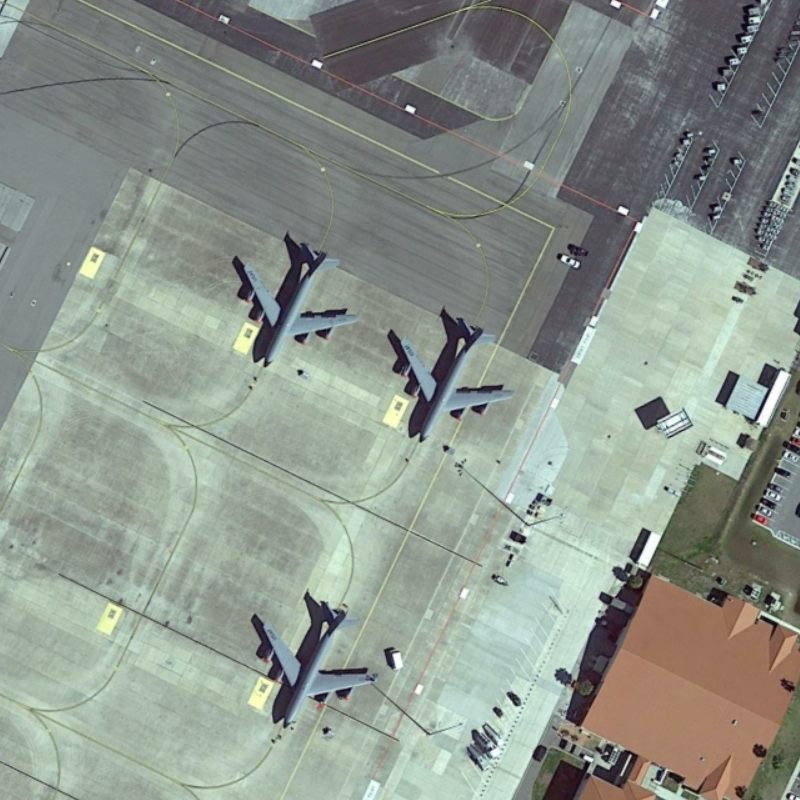A14: (235, 238, 364, 374), (257, 597, 382, 733), (394, 314, 516, 447)
